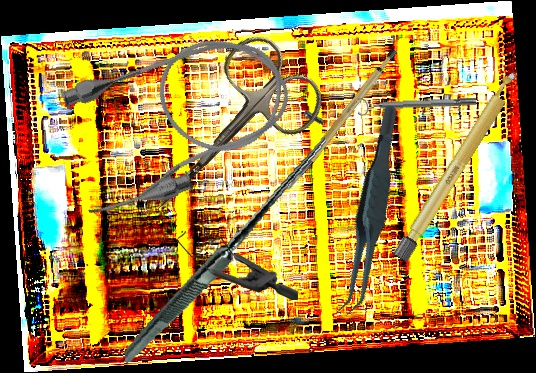Cannula: (44, 13, 310, 228)
Fixation Ring: (357, 92, 477, 117)
Hook Surgical: (94, 109, 353, 363)
Iris Scissors: (115, 25, 335, 247)
Scalpel Handle: (392, 66, 525, 264), (265, 46, 415, 191)
Speculum: (178, 216, 298, 300)
Tissue Forceps: (299, 102, 442, 322)
